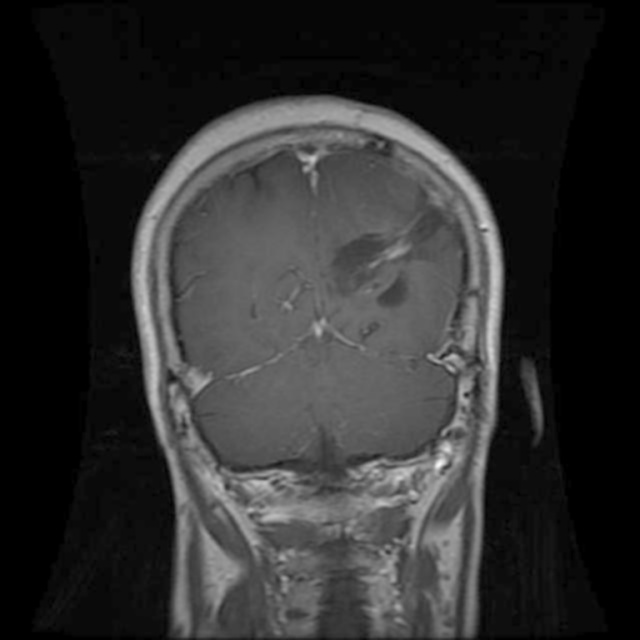pituitary tumor: (359, 234, 419, 276)
